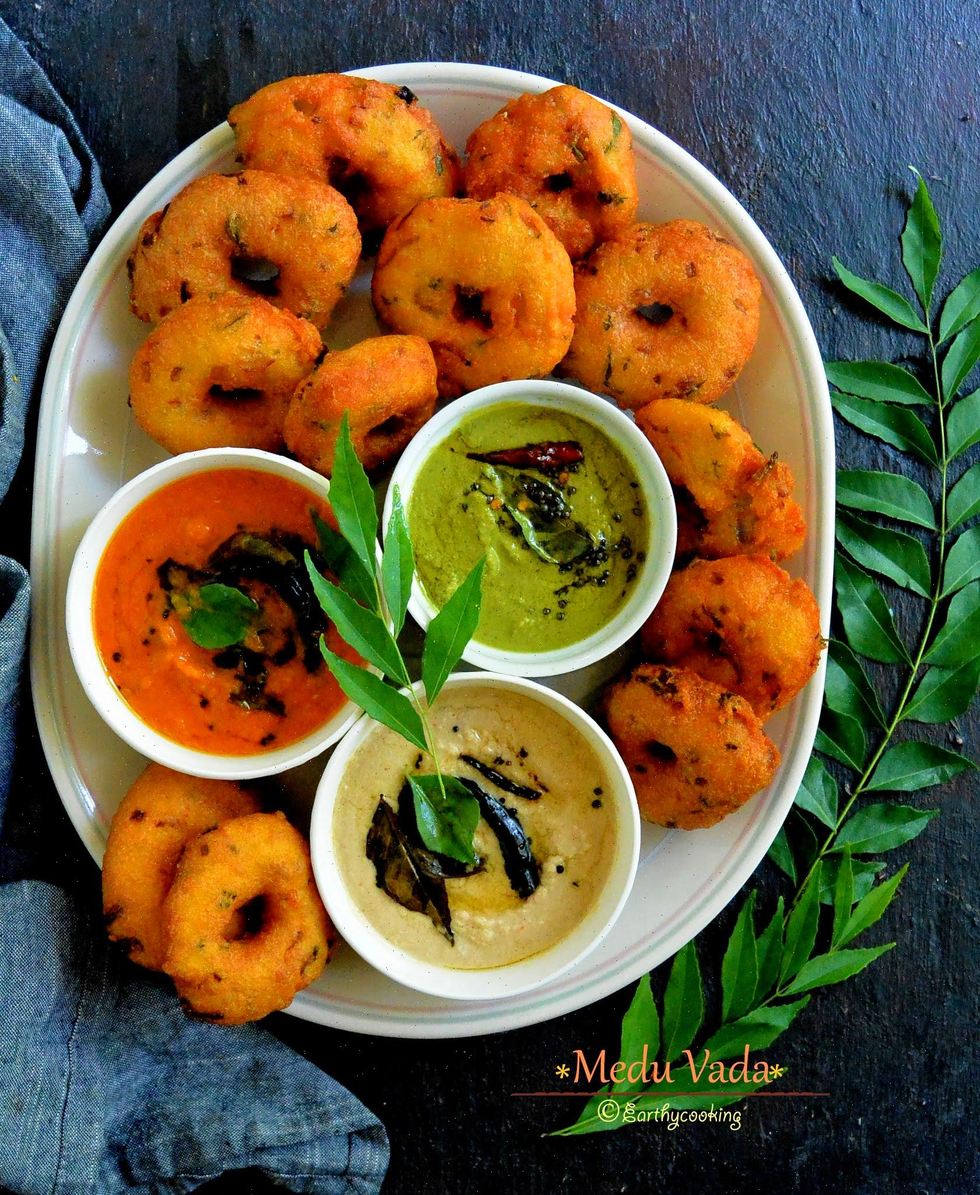medu vada: (101, 71, 794, 385)
